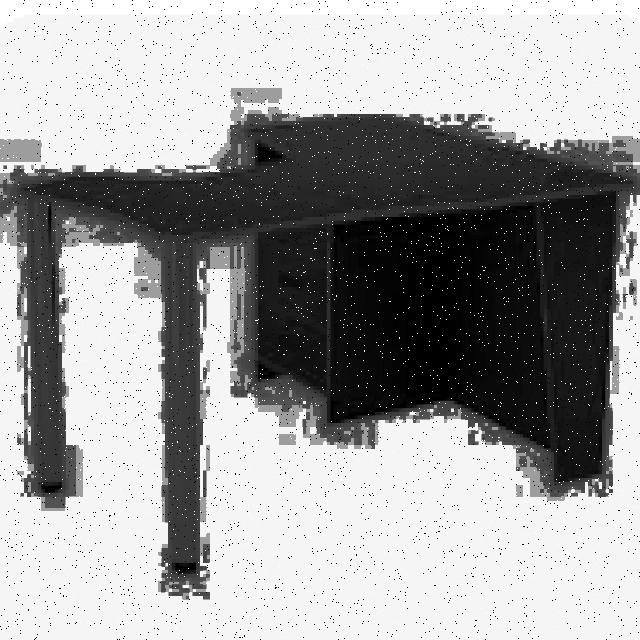table: (17, 110, 637, 574)
